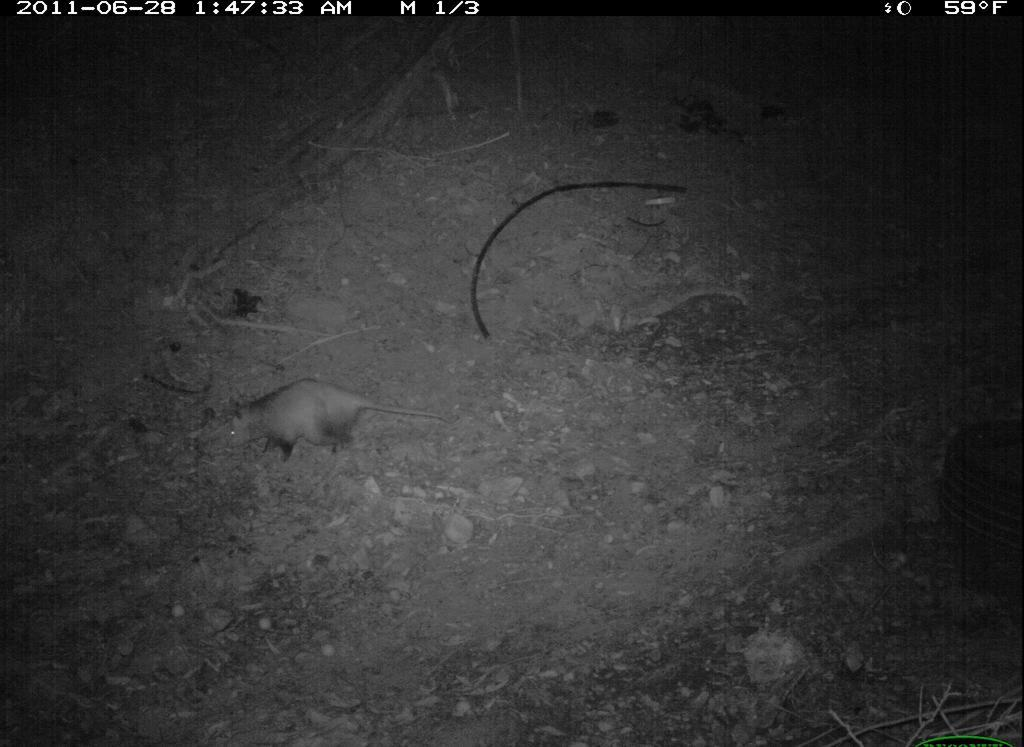opossum: (208, 381, 457, 484)
